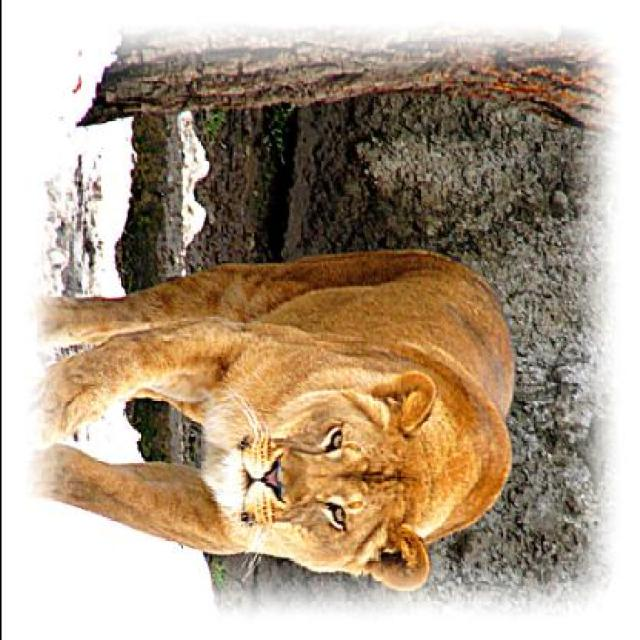Lion: (20, 224, 534, 590)
